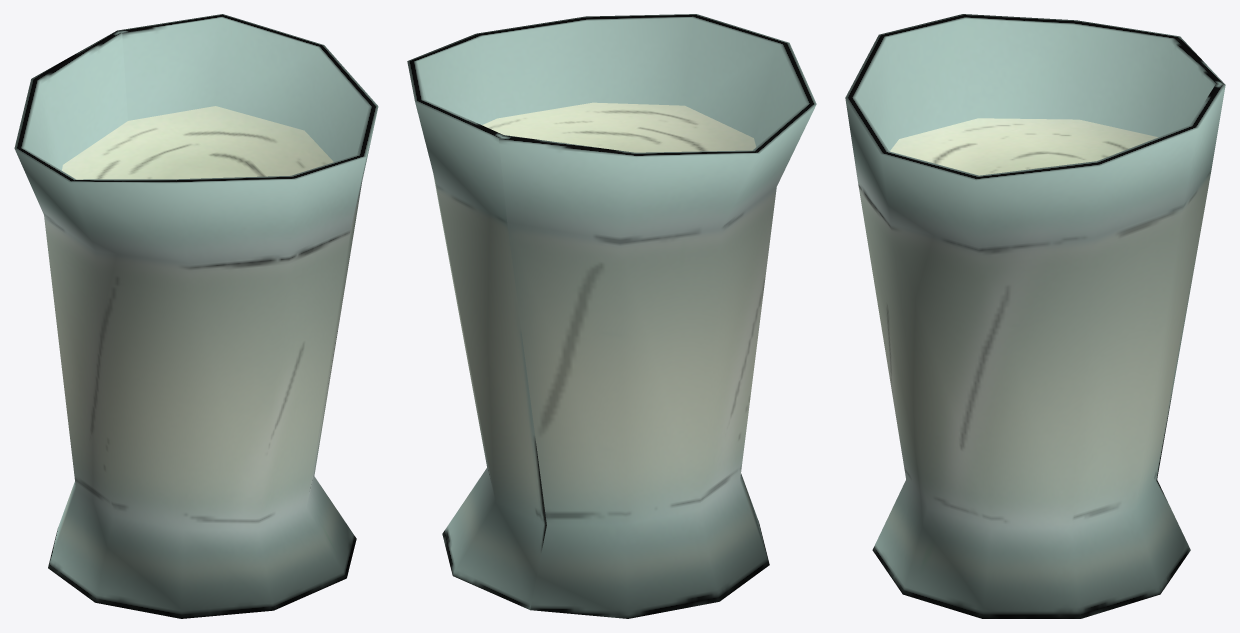
File: Milkshake_glass.fbx
3 views of the same model, side by side, from view 1: azimuth 30°, elevation 25°; view 2: azimuth 150°, elevation 25°; view 3: azimuth 270°, elevation 25° (orthographic). The views are drawn at different scales.
Parts seen in each view (by area): view 1: Milkshake_glass; view 2: Milkshake_glass; view 3: Milkshake_glass.
Boxes of the visible parts, box(x1,y1,x2,y2) form: Milkshake_glass: box(14, 14, 378, 618); Milkshake_glass: box(407, 14, 816, 618); Milkshake_glass: box(845, 14, 1225, 618).
Size of the model in its own units: 18.75 by 25.49 by 18.47.
Materials: 1 (1 with a texture image).
